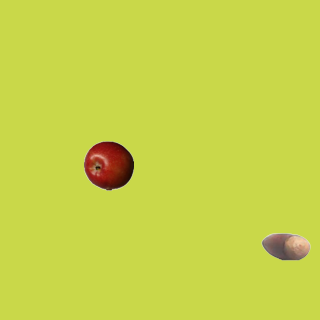Apple Braeburn: (83, 140, 133, 190)
Hazelnut: (260, 221, 310, 271)
